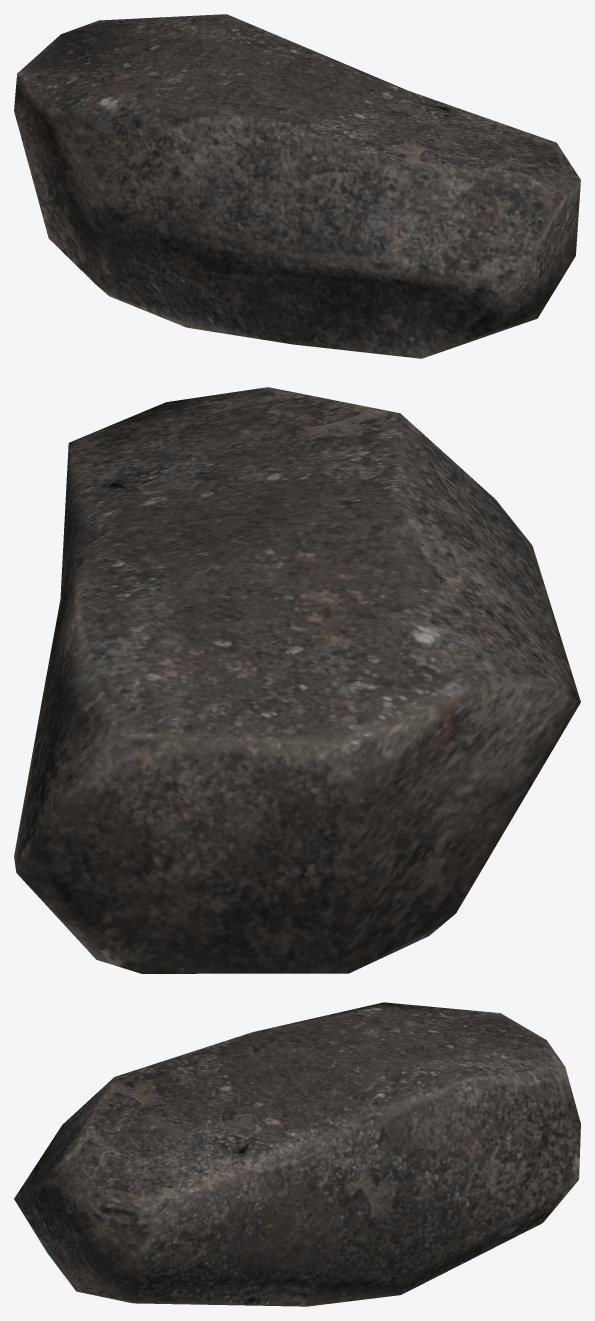
File: SM_SmallRocks_4.fbx
3 renders of one model, top to bottom at view 1: azimuth 30°, elevation 25°; view 2: azimuth 150°, elevation 25°; view 3: azimuth 270°, elevation 25°, orthographic. The views are drawn at different scales.
Parts seen in each view (by area): view 1: SM_SmallRocks_4_LOD0; view 2: SM_SmallRocks_4_LOD0; view 3: SM_SmallRocks_4_LOD0.
Part boxes in pixels (left/top/right/bottom): SM_SmallRocks_4_LOD0: left=14, top=14, right=580, bottom=358; SM_SmallRocks_4_LOD0: left=14, top=387, right=580, bottom=973; SM_SmallRocks_4_LOD0: left=14, top=1002, right=580, bottom=1306.
Bounding box in the file's own units: 24.87 × 32.64 × 13.83.
